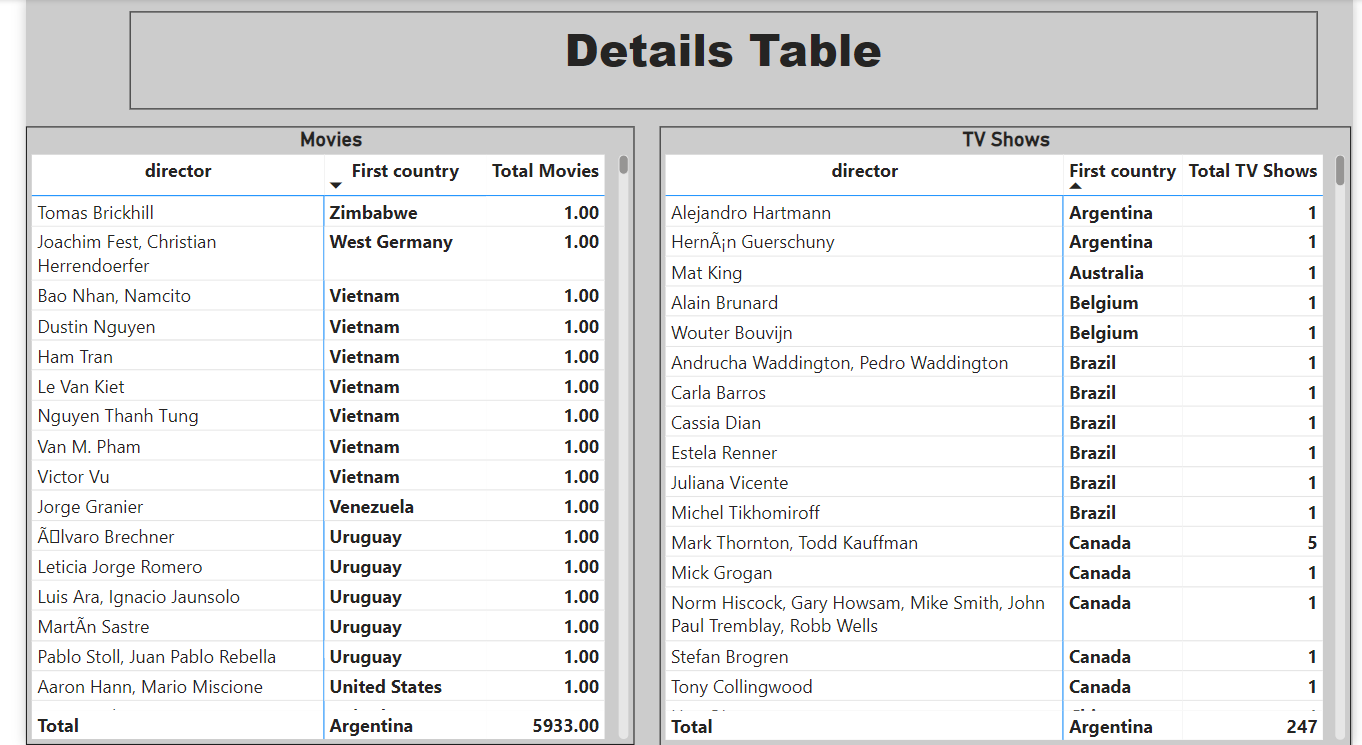

What the dashboard file says about the page in this screenshot:
{"tool":"powerbi","page":{"name":"tables","canvas":[1280,720],"ordinal":2},"visuals":[{"type":"pivotTable","title":"Movies","fields":{"Rows":["Sheet1.director"],"Values":["Min(Sheet1.country)","Sheet1.Total Movies"]},"box":[0,123.1,587.5,597.2],"z":0},{"type":"pivotTable","title":"TV Shows","fields":{"Rows":["Sheet1.director"],"Values":["Min(Sheet1.country)","Sheet1.Total TV Shows"]},"box":[612.2,122.8,667.4,598],"z":1000},{"type":"textbox","box":[99.7,12.5,1146.2,94.3],"z":1001}]}

Visuals, with their boxes in screenshot pixels (x1, y1, x2, y2), scaled from the page's 1280x720 canvas onto the 1362x745 screenshot:
"Movies" pivotTable: box=[0, 127, 625, 744]
"TV Shows" pivotTable: box=[651, 127, 1361, 744]
textbox: box=[106, 13, 1326, 111]
